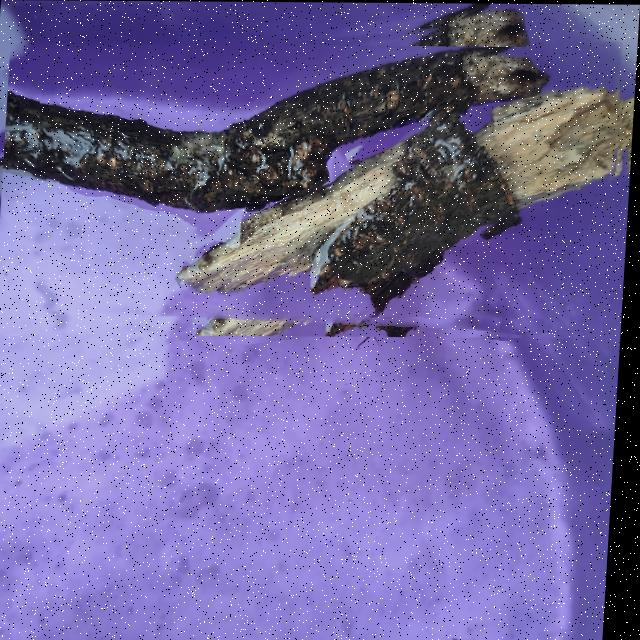wood: (0, 43, 628, 335), (0, 13, 550, 246), (188, 57, 637, 338), (314, 133, 540, 335)
